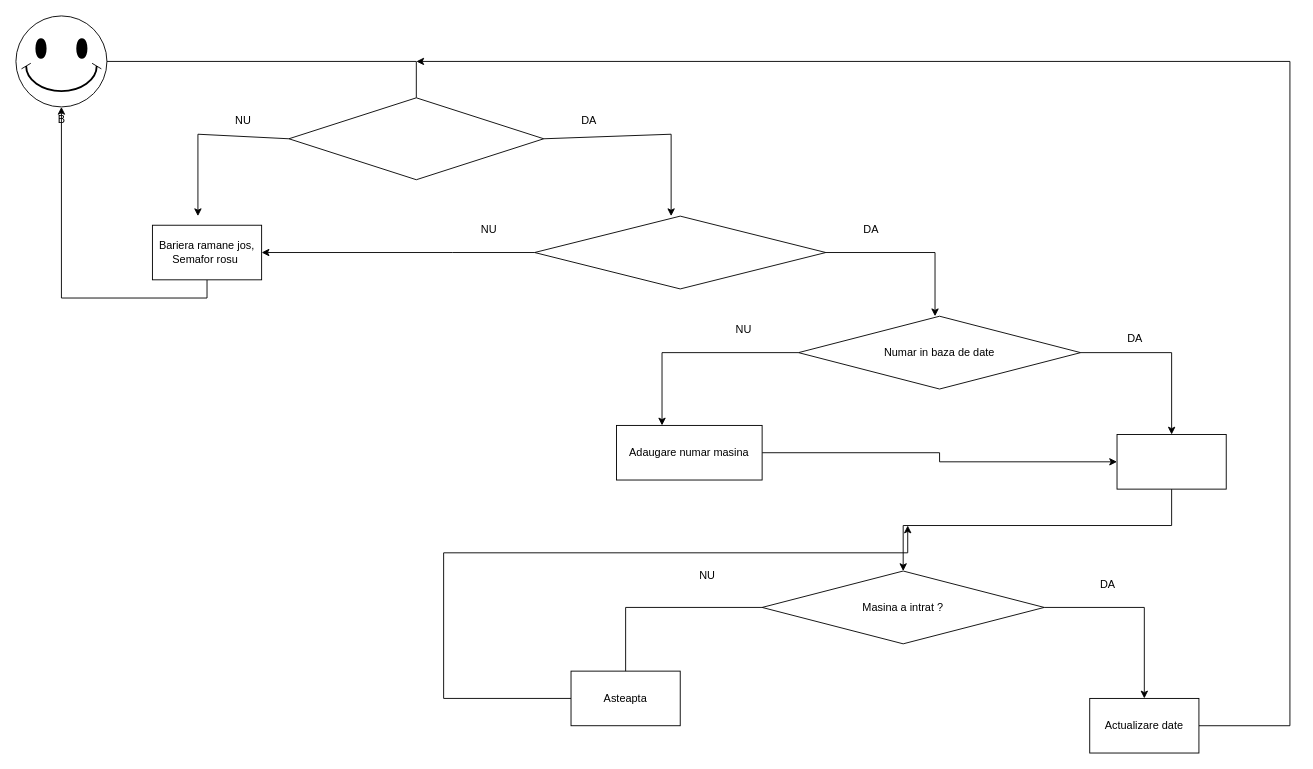
The diagram is 1313 pixels wide and 769 high, and some of its shapes have lost their labels. Here are the shapes that lost their labels. From the top down, the centre of each, then its label:
At point (416, 138): "Masina e in fata barierei ?".
At point (680, 252): "Numar masina valid".
At point (1171, 461): "Bariera sus, semafor verde".
